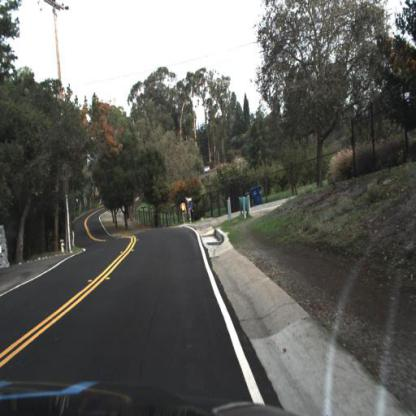pedestrian: (186, 195, 197, 225), (187, 198, 197, 227), (180, 201, 189, 227), (180, 200, 188, 226)
